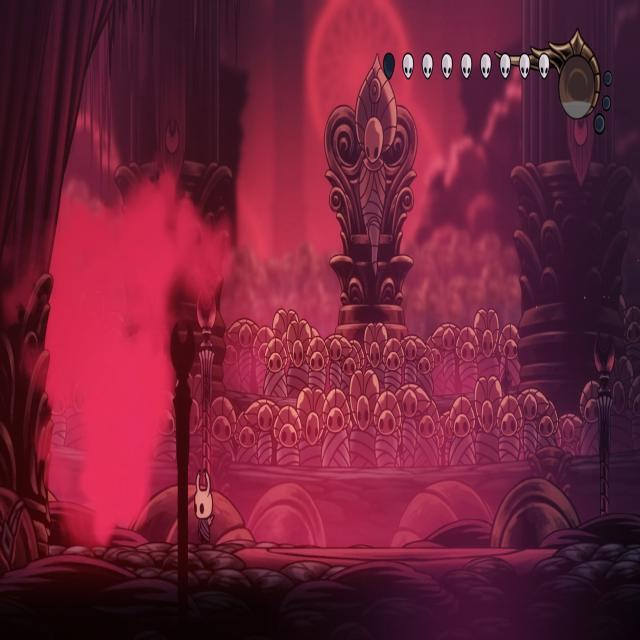Player: (191, 461, 218, 546)
